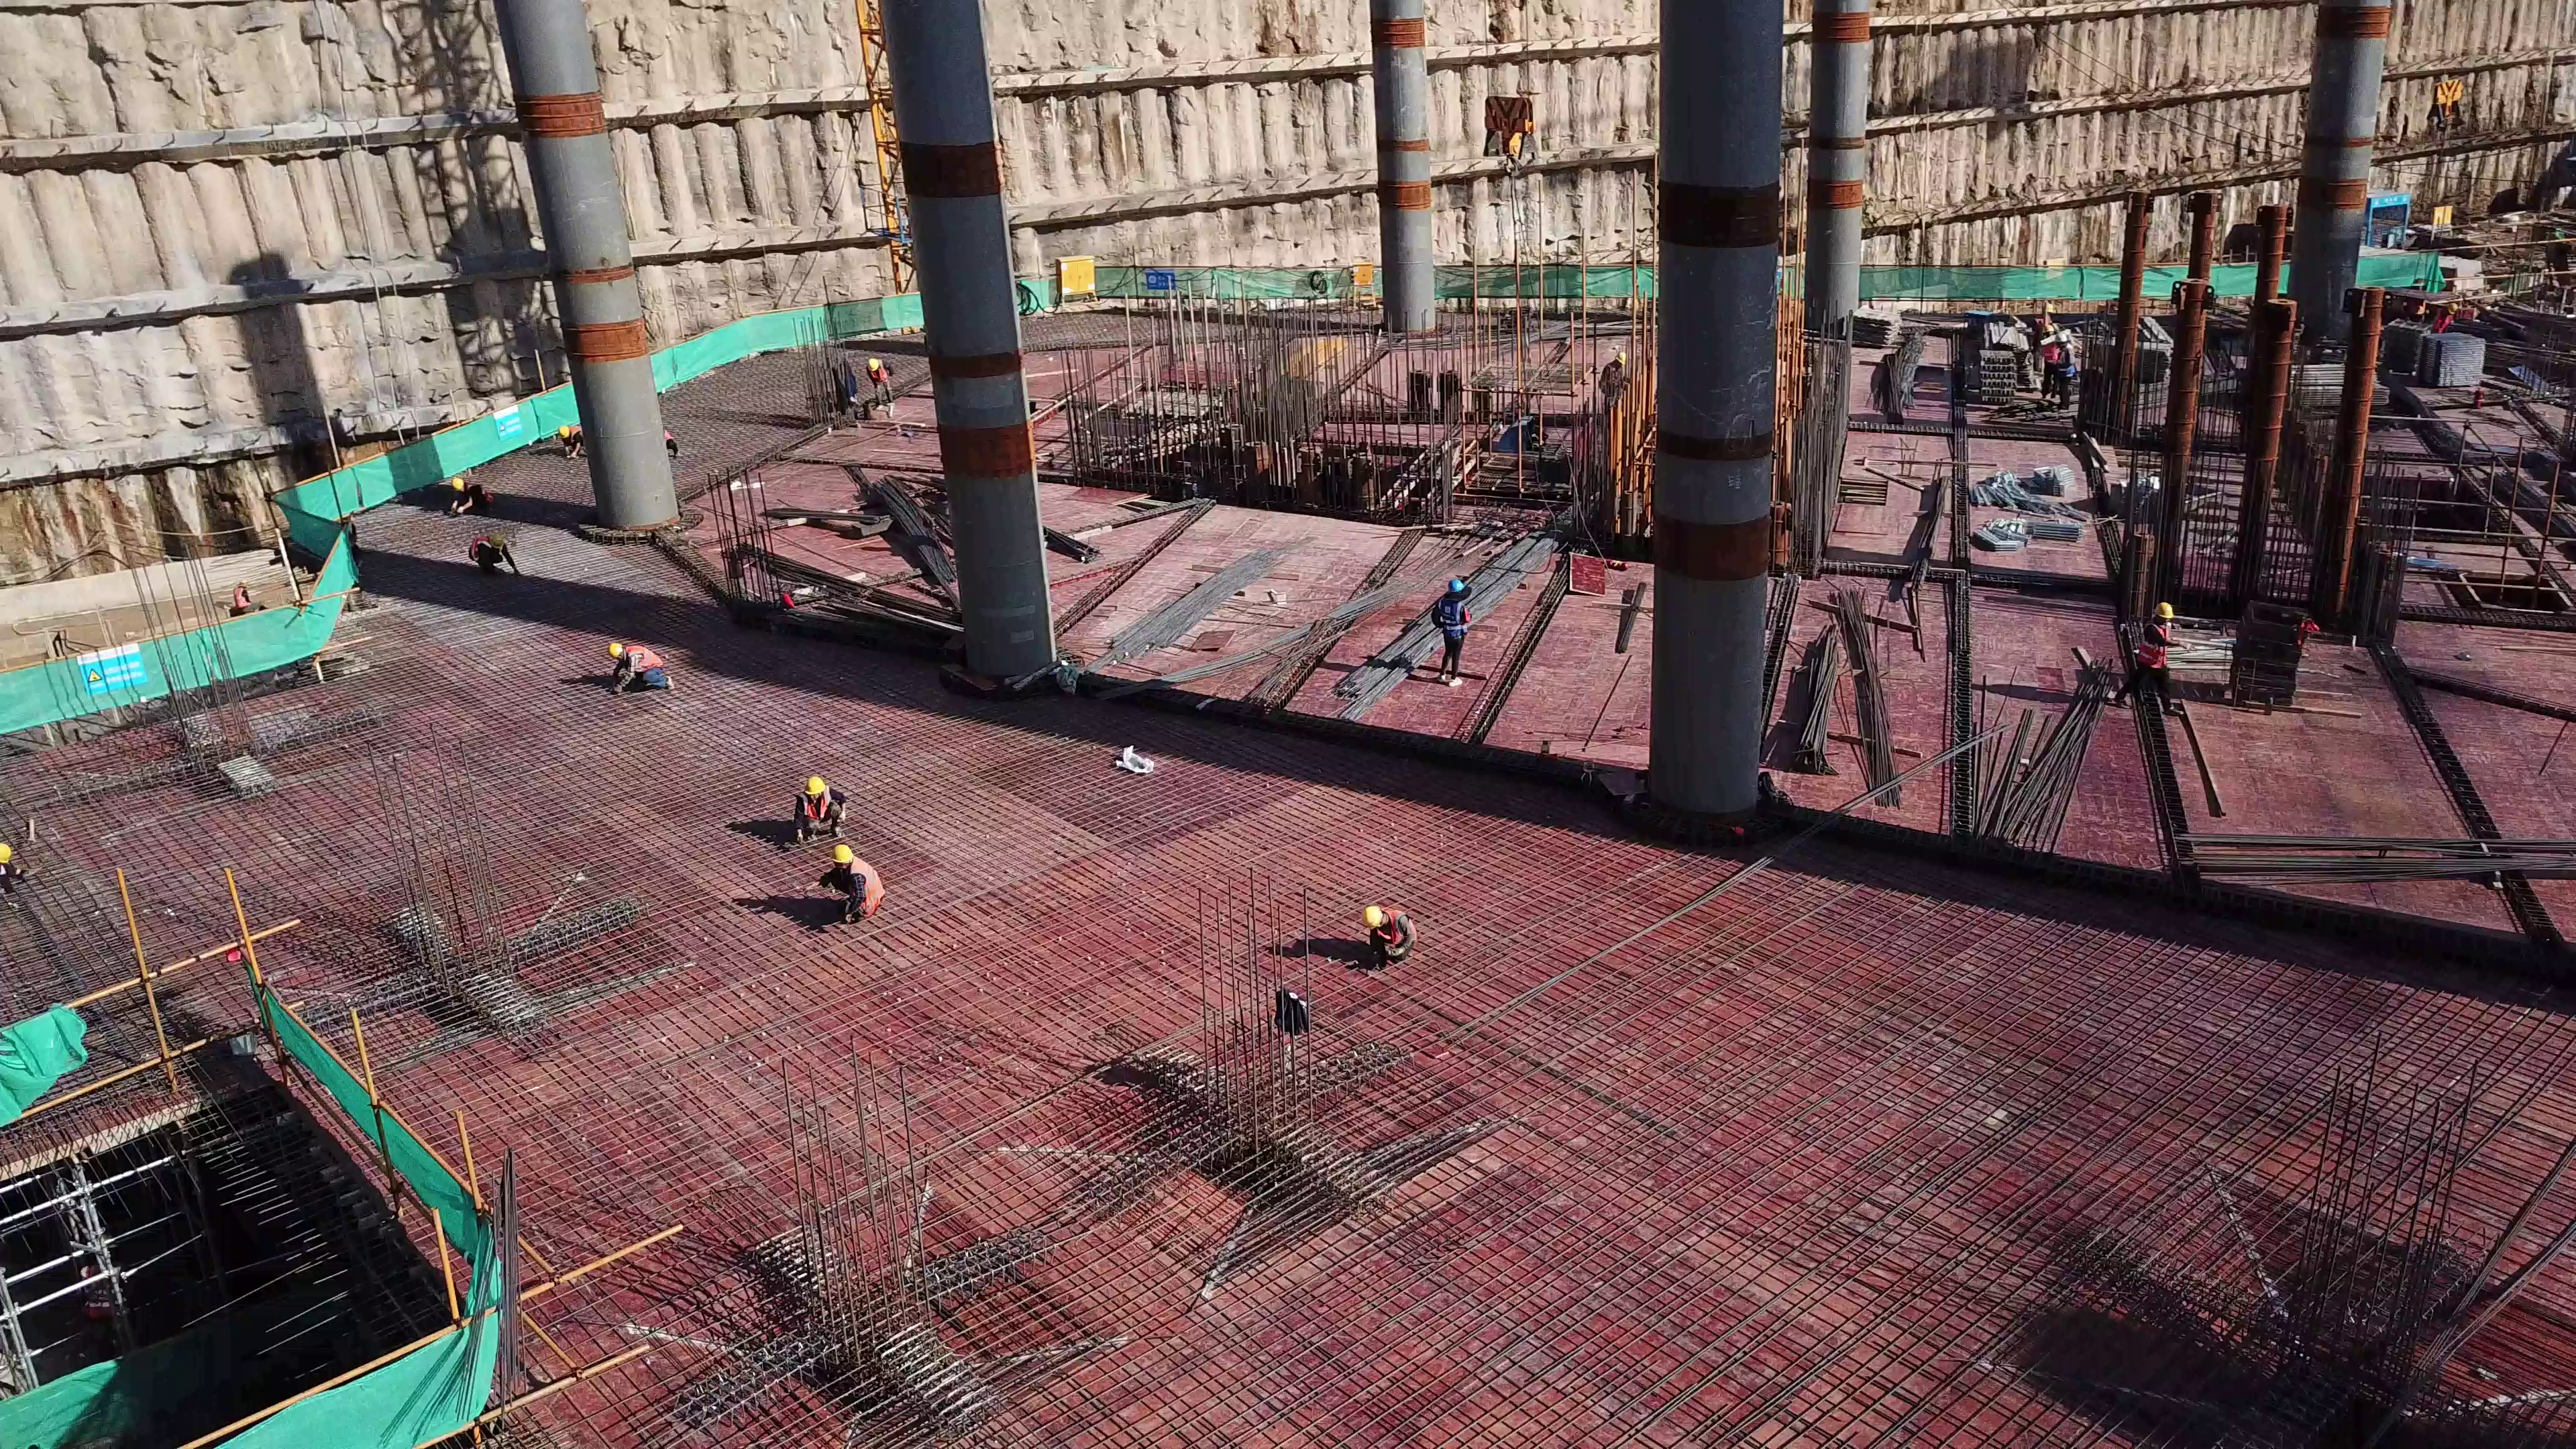ebox: (1040, 251, 1097, 310)
helmet: (828, 845, 853, 866), (1360, 904, 1384, 928), (2149, 603, 2174, 623), (803, 776, 822, 795), (486, 537, 504, 552), (449, 476, 466, 491), (606, 639, 622, 654), (556, 427, 569, 441), (867, 355, 880, 370), (1451, 578, 1464, 590), (2053, 335, 2069, 343)
hook: (1473, 91, 1538, 165), (2422, 75, 2467, 137)
person: (818, 844, 892, 922), (2131, 600, 2178, 714), (1354, 899, 1427, 967), (1428, 577, 1472, 689), (605, 634, 680, 693), (790, 774, 847, 841), (465, 533, 521, 582), (856, 354, 896, 419), (445, 476, 500, 519), (2049, 335, 2075, 411), (226, 577, 271, 619), (554, 420, 583, 458)
rebar: (1342, 511, 1572, 717), (1170, 554, 1428, 695), (2172, 822, 2576, 898), (1782, 595, 1908, 808), (1067, 540, 1281, 664), (1976, 673, 2100, 860), (843, 454, 951, 585), (1875, 315, 1925, 437), (1899, 466, 1943, 600)
scaffold: (1968, 459, 2076, 504), (2414, 326, 2495, 384), (1978, 508, 2083, 553)
vest: (847, 859, 890, 918), (1375, 912, 1419, 955), (791, 792, 843, 825), (2139, 623, 2169, 671), (1434, 600, 1467, 639), (625, 643, 663, 673), (2057, 353, 2077, 380), (869, 366, 887, 386), (2044, 344, 2059, 364), (233, 586, 247, 606)
